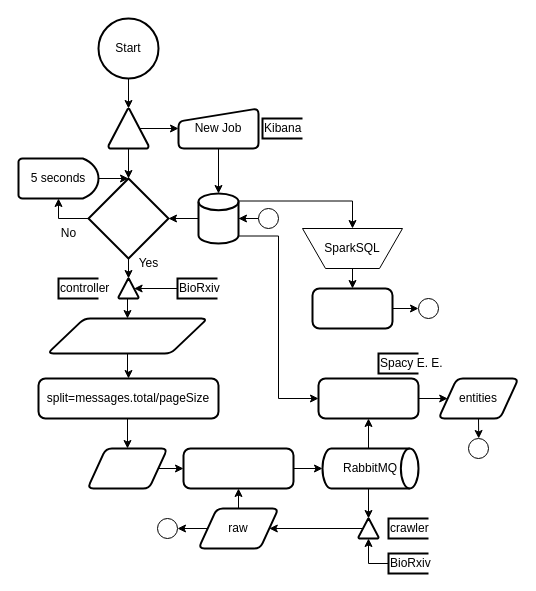
Image size: 536x591. Some labels were removed from this diagram. Here are the shapes that lost their labels. From the top down, the box of each, then its label:
(87, 177, 169, 259): New job ?
(197, 192, 239, 244): ES
(311, 287, 393, 329): Transform
(46, 317, 208, 354): messages.total
(317, 377, 419, 419): Named Entity Recognition
(86, 447, 168, 489): splits
(182, 447, 294, 489): Lines up message
